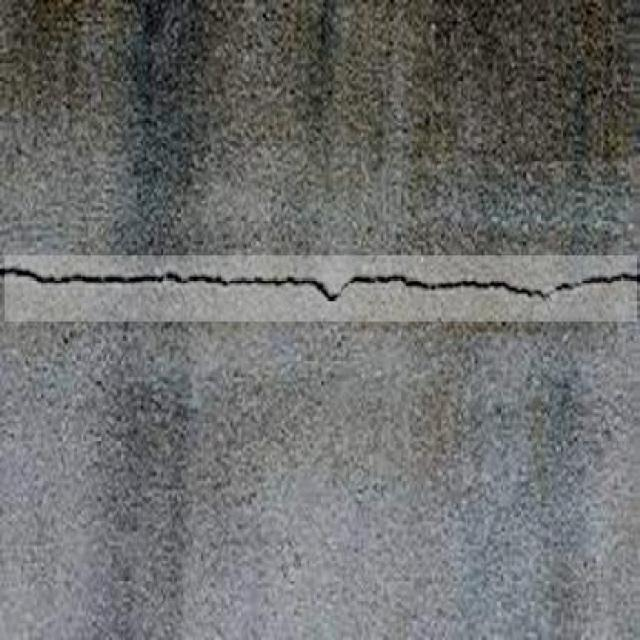Crack: (2, 248, 640, 334)
